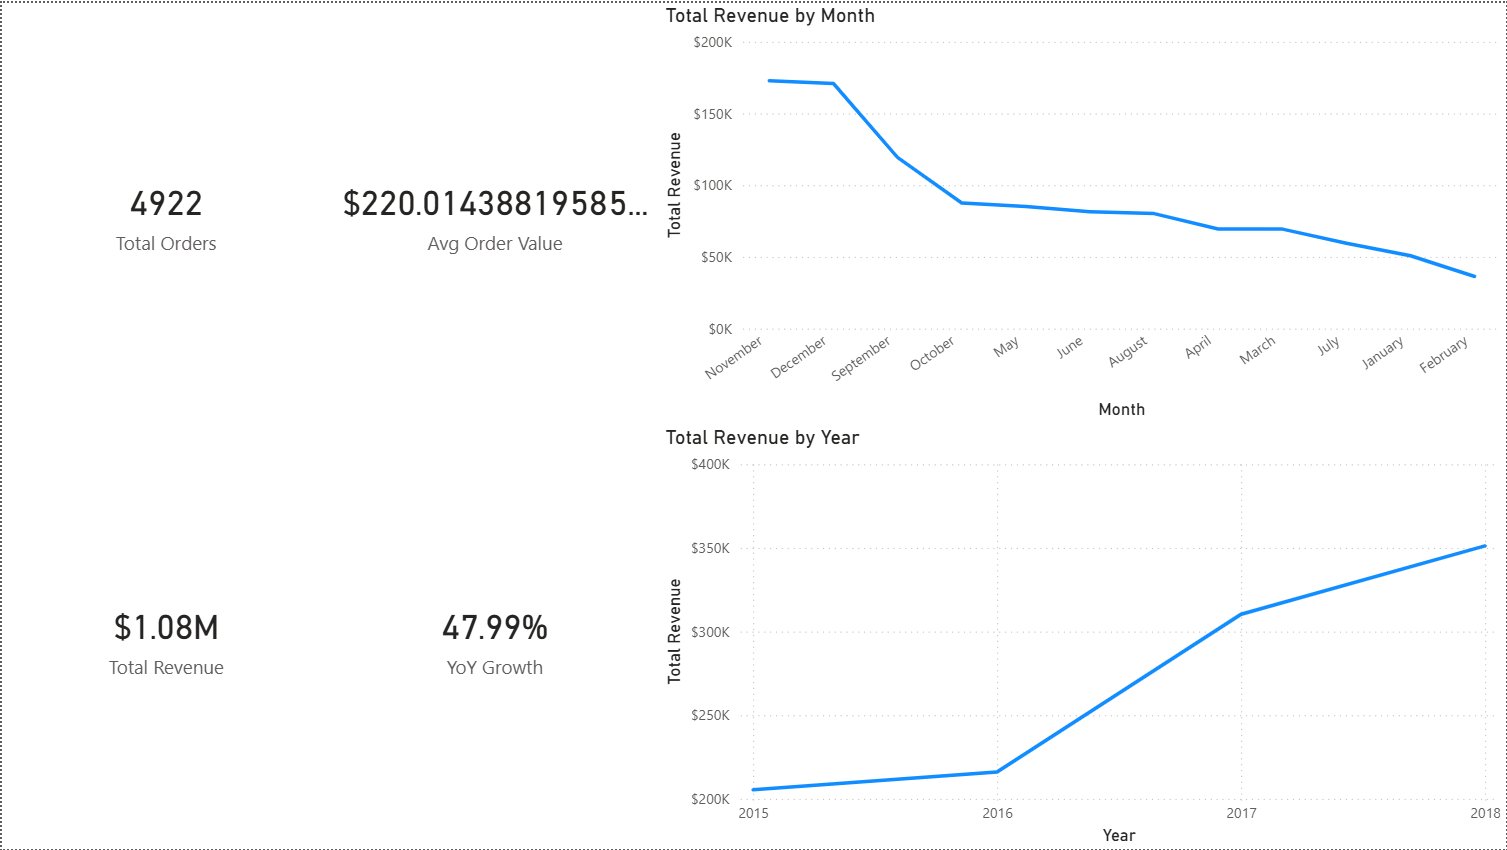

What the dashboard file says about the page in this screenshot:
{"tool":"powerbi","page":{"name":"Page 1: Executive Overview","canvas":[1280,720],"ordinal":0},"visuals":[{"type":"card","fields":{"Values":["Key Measures.Total Orders"]},"box":[0,0,279.9,359.1],"z":0},{"type":"card","fields":{"Values":["Key Measures.Total Revenue"]},"box":[0,359.1,279.9,361.7],"z":1000},{"type":"card","fields":{"Values":["Key Measures.Avg Order Value"]},"box":[279.9,0,279.9,359.1],"z":2000},{"type":"card","fields":{"Values":["Key Measures.YoY Growth"]},"box":[279.9,359.1,279.9,361.7],"z":3000},{"type":"lineChart","fields":{"Category":["DateTable.Month"],"Y":["Key Measures.Total Revenue"]},"box":[559.7,0,720.8,359.1],"z":4000},{"type":"lineChart","fields":{"Category":["DateTable.Year"],"Y":["Key Measures.Total Revenue"]},"box":[559.7,359.1,720.8,361.7],"z":5000}]}

Visuals, with their boxes in screenshot pixels (x1, y1, x2, y2), scaled from the page's 1280x720 canvas onto the 1507x850 screenshot:
card - Key Measures.Total Orders: 0/0/330/424
card - Key Measures.Total Revenue: 0/424/330/849
card - Key Measures.Avg Order Value: 330/0/659/424
card - Key Measures.YoY Growth: 330/424/659/849
lineChart - DateTable.Month x Key Measures.Total Revenue: 659/0/1506/424
lineChart - DateTable.Year x Key Measures.Total Revenue: 659/424/1506/849
